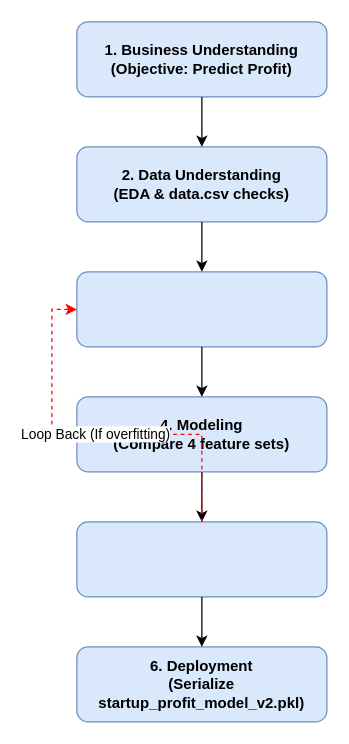
The diagram is 349 pixels wide and 744 high, and some of its shapes have lost their labels. Here are the shapes that lost their labels. From the top down, the box of each, then its label:
(76, 271, 327, 347): 3. Data Preparation (One-Hot Encoding, Split)
(76, 521, 327, 597): 5. Evaluation (5-Fold CV: Select Model 2)
